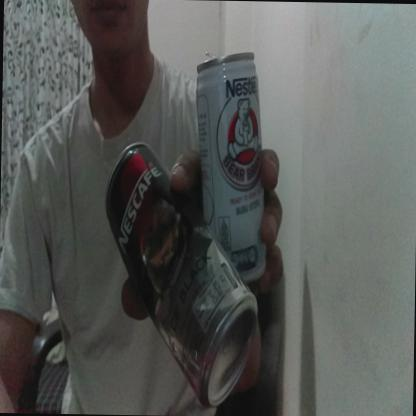alumunium_can: (102, 141, 258, 408), (191, 44, 272, 290)
